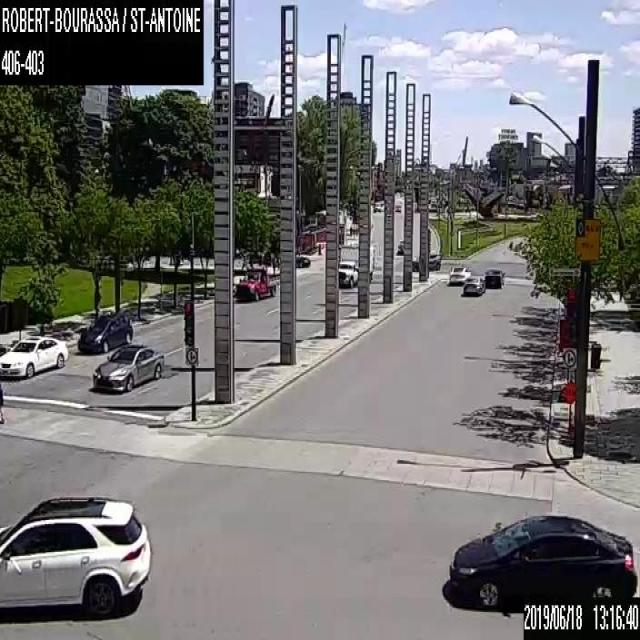construction: (558, 380, 574, 444)
pedestrian: (0, 380, 6, 426)
vehicle: (0, 491, 152, 617), (448, 514, 638, 605), (92, 341, 164, 391), (0, 333, 68, 378), (78, 314, 132, 353), (338, 241, 373, 288), (235, 265, 276, 300), (412, 250, 441, 270), (463, 274, 485, 294), (484, 267, 504, 287), (450, 266, 470, 284), (295, 255, 310, 267), (396, 236, 403, 256), (373, 201, 382, 211), (394, 203, 401, 210)
